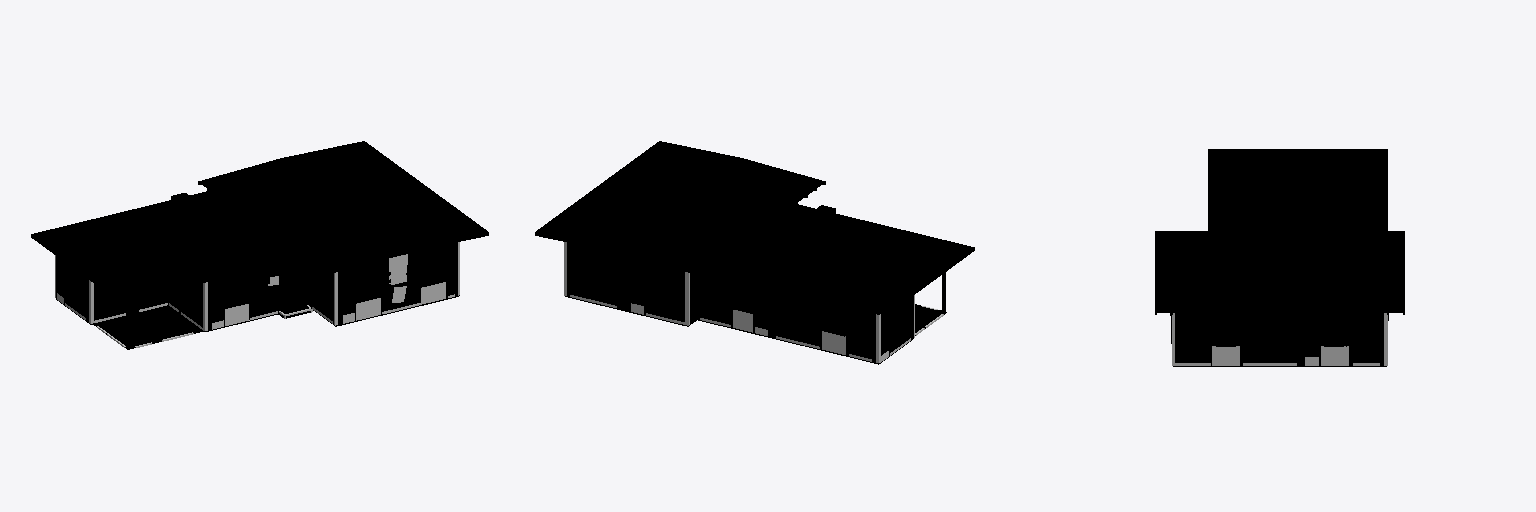
The model's file is GoodspringsHome01.obj.
The picture shows the model from 3 angles: view 1: azimuth 30°, elevation 25°; view 2: azimuth 150°, elevation 25°; view 3: azimuth 270°, elevation 25°; orthographic projection.
Visible parts, largest first — view 1: __PrenotatoPerDuplicare_2, __PrenotatoPerDuplicare_0, __PrenotatoPerDuplicare_1; view 2: __PrenotatoPerDuplicare_2, __PrenotatoPerDuplicare_0, __PrenotatoPerDuplicare_1; view 3: __PrenotatoPerDuplicare_2, __PrenotatoPerDuplicare_0.
Boxes of the visible parts, x1,y1,x2,y2 form: __PrenotatoPerDuplicare_2: [31, 141, 488, 349]; __PrenotatoPerDuplicare_0: [55, 242, 459, 347]; __PrenotatoPerDuplicare_1: [226, 257, 447, 303]; __PrenotatoPerDuplicare_2: [535, 141, 974, 364]; __PrenotatoPerDuplicare_0: [564, 242, 943, 362]; __PrenotatoPerDuplicare_1: [619, 269, 843, 333]; __PrenotatoPerDuplicare_2: [1155, 149, 1404, 366]; __PrenotatoPerDuplicare_0: [1172, 313, 1387, 365].
Bounding box in the file's own units: 1403 × 301 × 887.